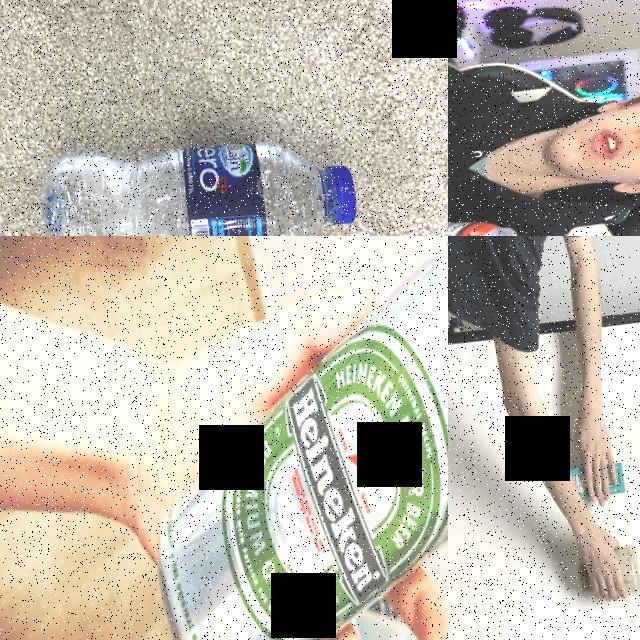bottle: (32, 118, 366, 236)
can: (108, 236, 448, 640)
cup: (573, 540, 640, 601)
